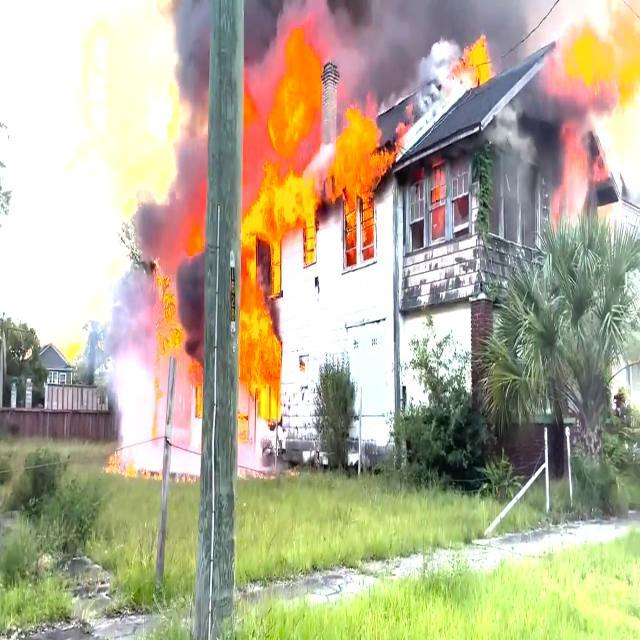Fire: (266, 150, 316, 275), (236, 295, 284, 424), (336, 118, 378, 236), (280, 69, 308, 136), (154, 288, 180, 358), (246, 201, 258, 271)
Smoke: (320, 3, 518, 64), (186, 0, 207, 208), (256, 13, 301, 62)
